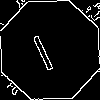I: (25, 25, 57, 72)
